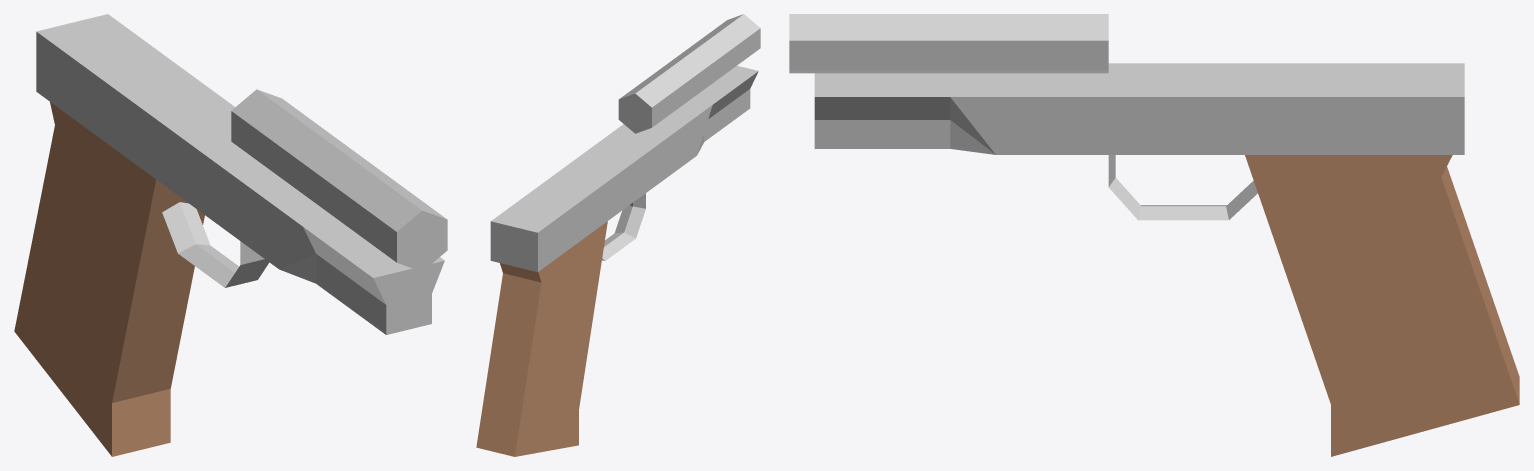
The model's file is GunPistol.glb.
The picture shows the model from 3 angles, left to right: view 1: azimuth 30°, elevation 25°; view 2: azimuth 150°, elevation 25°; view 3: azimuth 270°, elevation 25°; orthographic projection. The views are drawn at different scales.
Parts seen in each view (by area): view 1: 1911_Body; view 2: 1911_Body; view 3: 1911_Body.
Boxes of the visible parts, bbox=[...] form: 1911_Body: bbox=[14, 14, 447, 456]; 1911_Body: bbox=[476, 14, 760, 456]; 1911_Body: bbox=[789, 14, 1519, 456].
Size of the model in its own units: 0.022 by 0.1304 by 0.2012.
